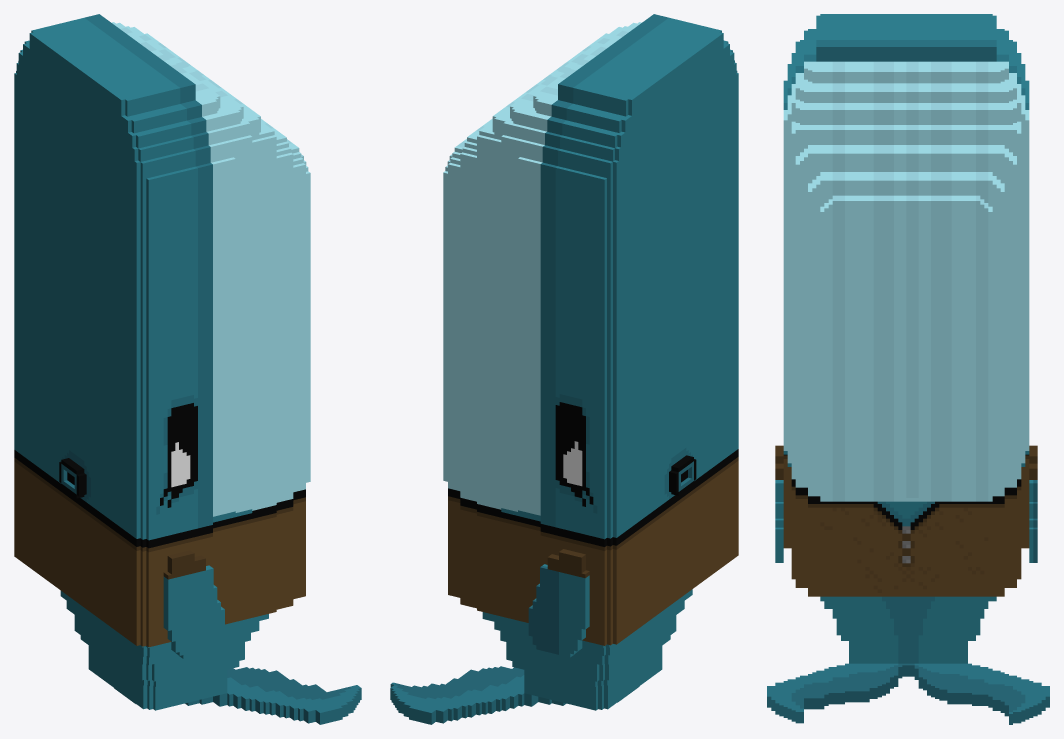
The model's file is NPC_8.obj.
The picture shows the model from 3 angles, left to right: view 1: azimuth 30°, elevation 25°; view 2: azimuth 150°, elevation 25°; view 3: azimuth 270°, elevation 25°; orthographic projection. The views are drawn at different scales.
Size of the model in its own units: 6.3 by 16.3 by 6.9.
